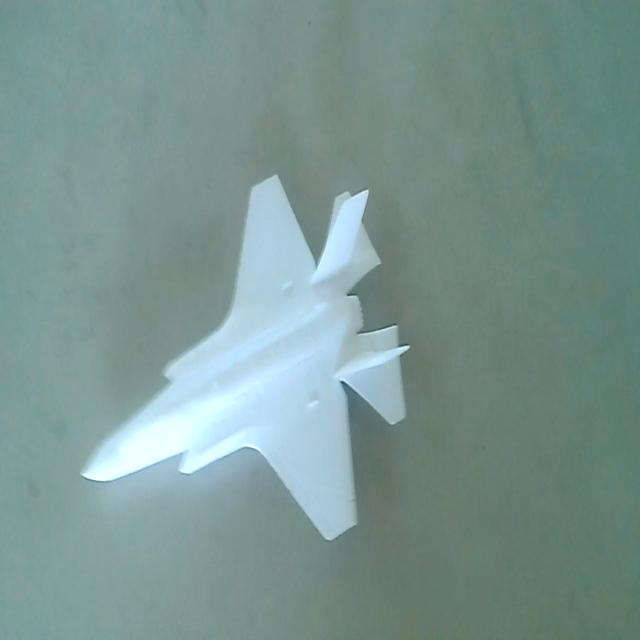Jet: (77, 173, 414, 545)
